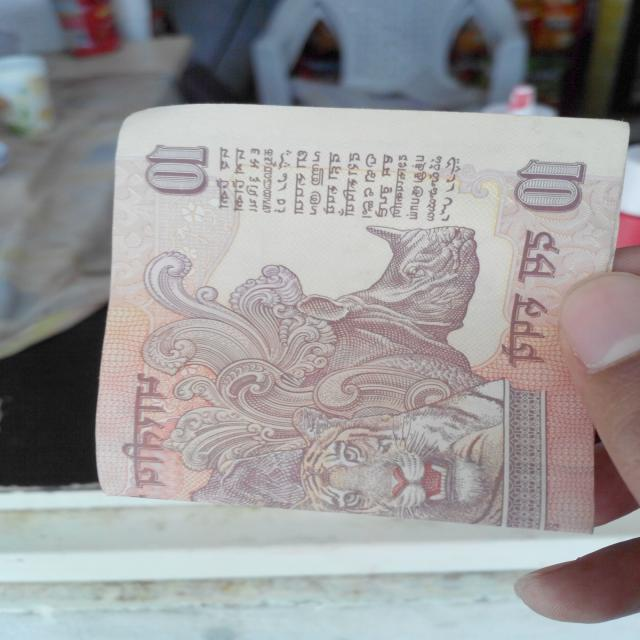10rs: (95, 106, 630, 532)
